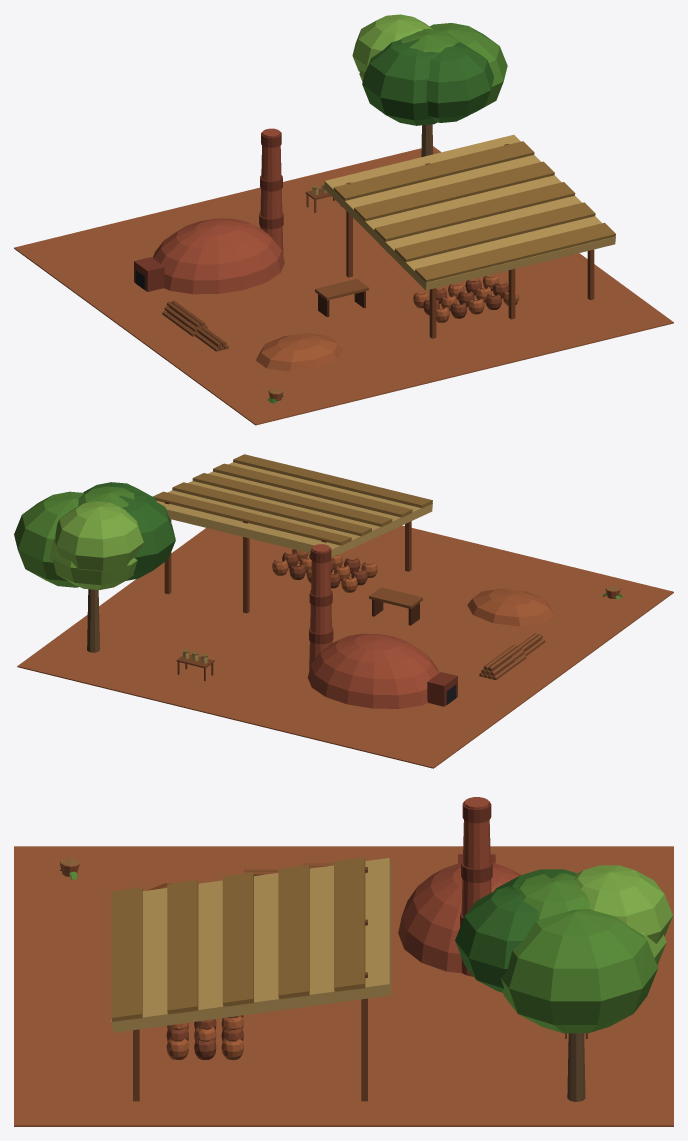
The model's file is factory_2.glb.
3 renders of one model, top to bottom at view 1: azimuth 30°, elevation 25°; view 2: azimuth 150°, elevation 25°; view 3: azimuth 270°, elevation 25°, orthographic. The views are drawn at different scales.
Visible parts, largest first — view 1: body; view 2: body; view 3: body.
Boxes of the visible parts, x1,y1,x2,y2 form: body: [14, 14, 673, 425]; body: [14, 454, 673, 768]; body: [14, 797, 673, 1126].
Bounding box in the file's own units: 17.04 × 6.07 × 15.9.
